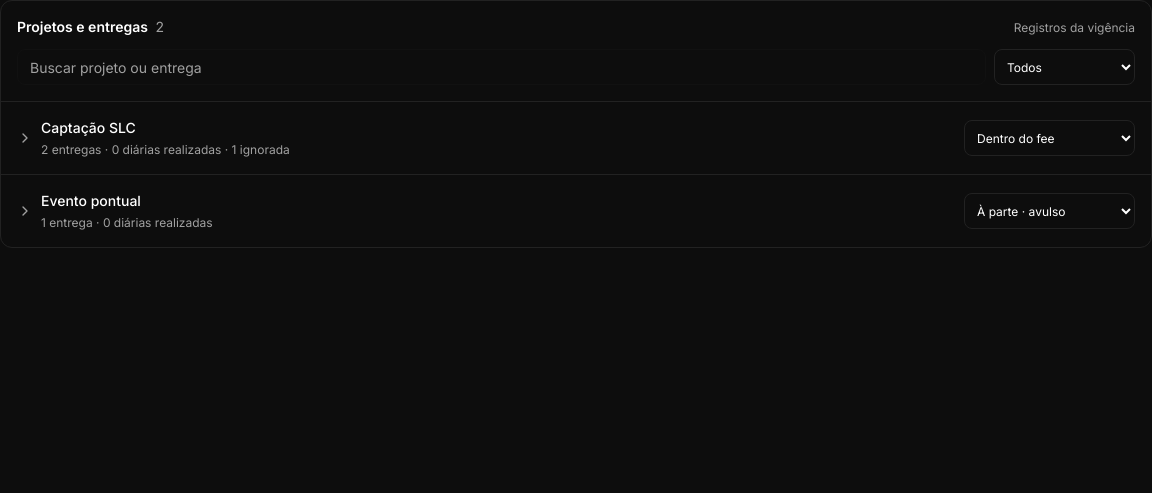
Test: agrupa por projeto e expande apenas um grupo por vez
Click the button "Captação SLC 2 entregas · 0 diárias realizadas · 1 ignorada": point(88, 128) [17, 118, 952, 158]
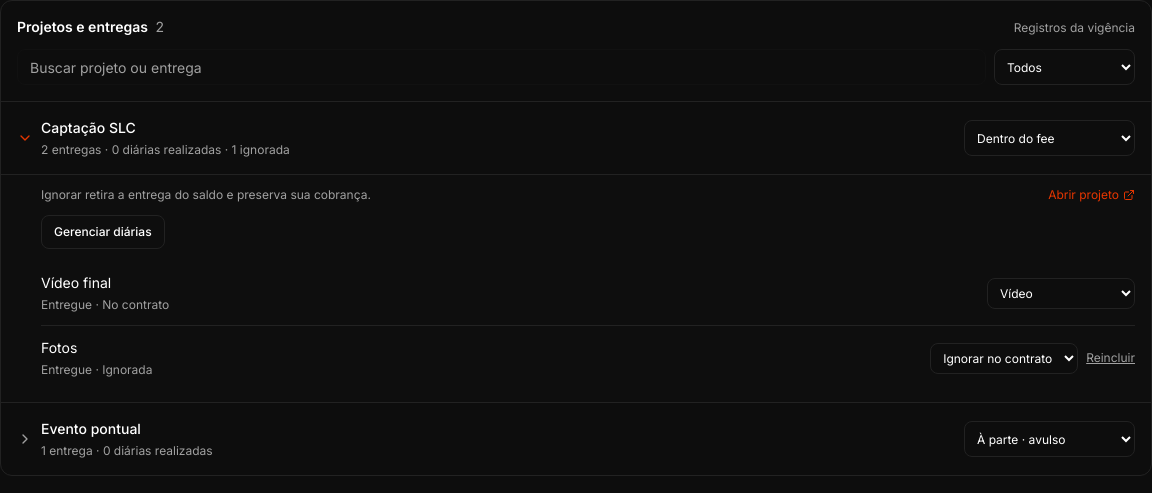
expect the dropdown named "Tipo de Vídeo final" is shown: met, box [987, 278, 1135, 308]
expect the dropdown named "Tipo de Fotos" is shown: met, box [930, 342, 1078, 374]
Click the button "Evento pontual 1 entrega · 0 diárias realizadas": point(91, 428) [17, 419, 952, 459]
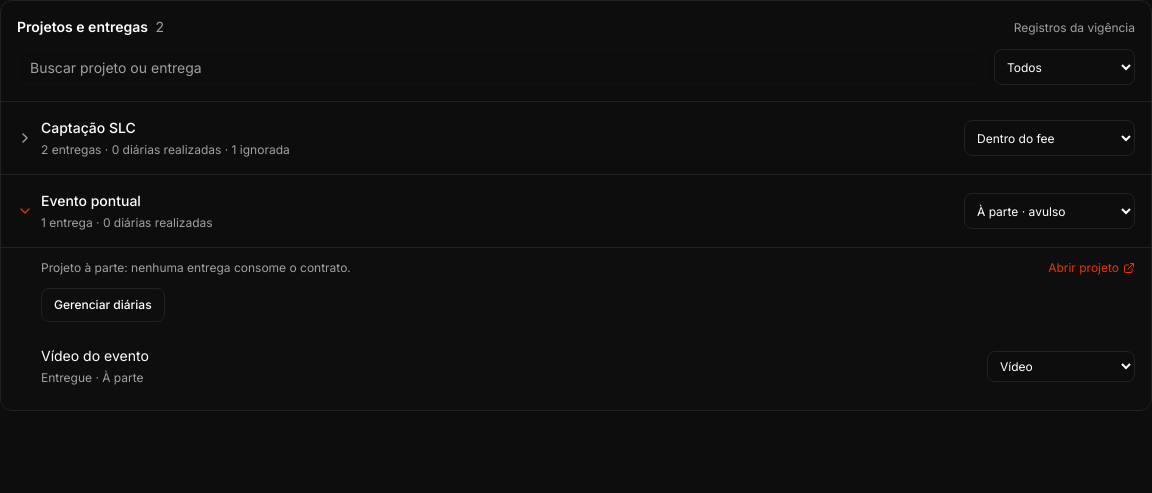
expect the dropdown named "Tipo de Vídeo do evento" is shown: met, box [987, 350, 1135, 382]
